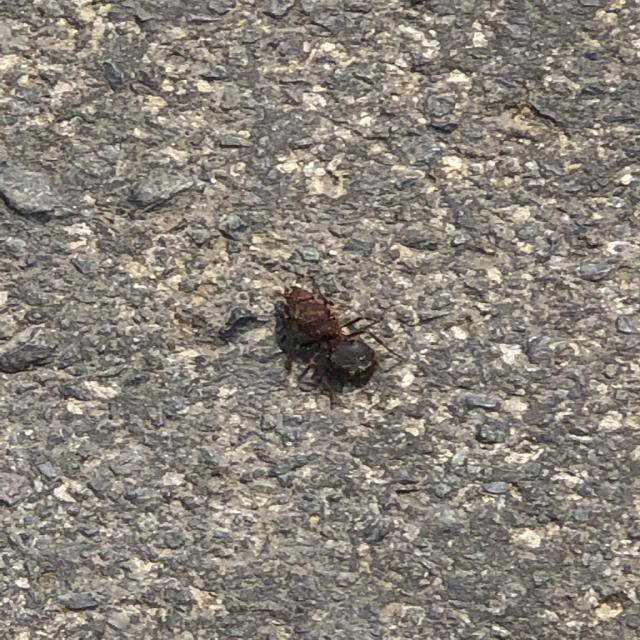Alive-Female-Dealate: (274, 276, 406, 410)
